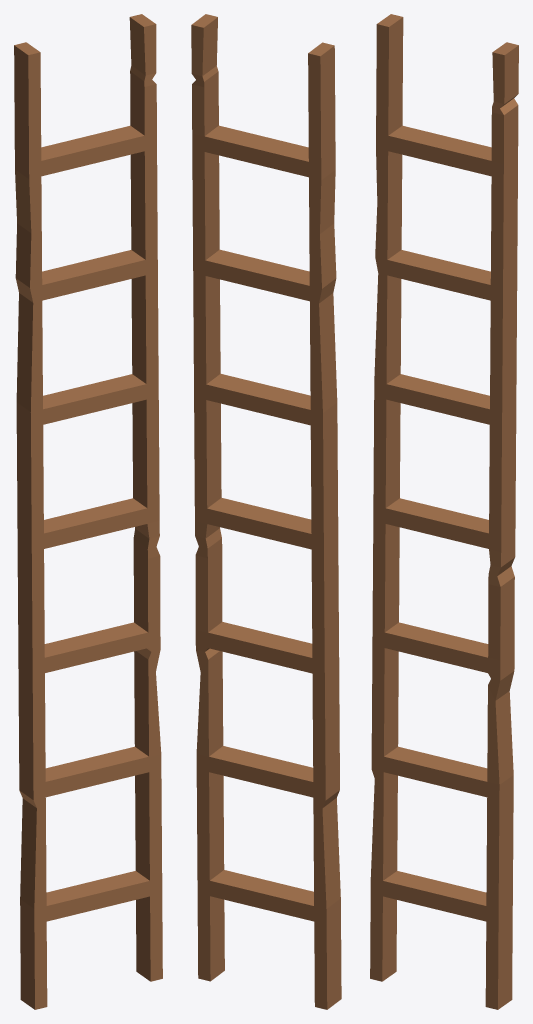
The model's file is Ladder_medium.glb.
The picture shows the model from 3 angles, left to right: view 1: azimuth 30°, elevation 25°; view 2: azimuth 150°, elevation 25°; view 3: azimuth 330°, elevation 25°; orthographic projection.
Visible parts, largest first — view 1: Ladder_medium; view 2: Ladder_medium; view 3: Ladder_medium.
Part boxes in pixels (<box>): Ladder_medium: <box>14,14,162,1009</box>; Ladder_medium: <box>191,14,341,1009</box>; Ladder_medium: <box>370,14,518,1009</box>.
Size of the model in its own units: 0.6331 by 4.5 by 0.1798.
